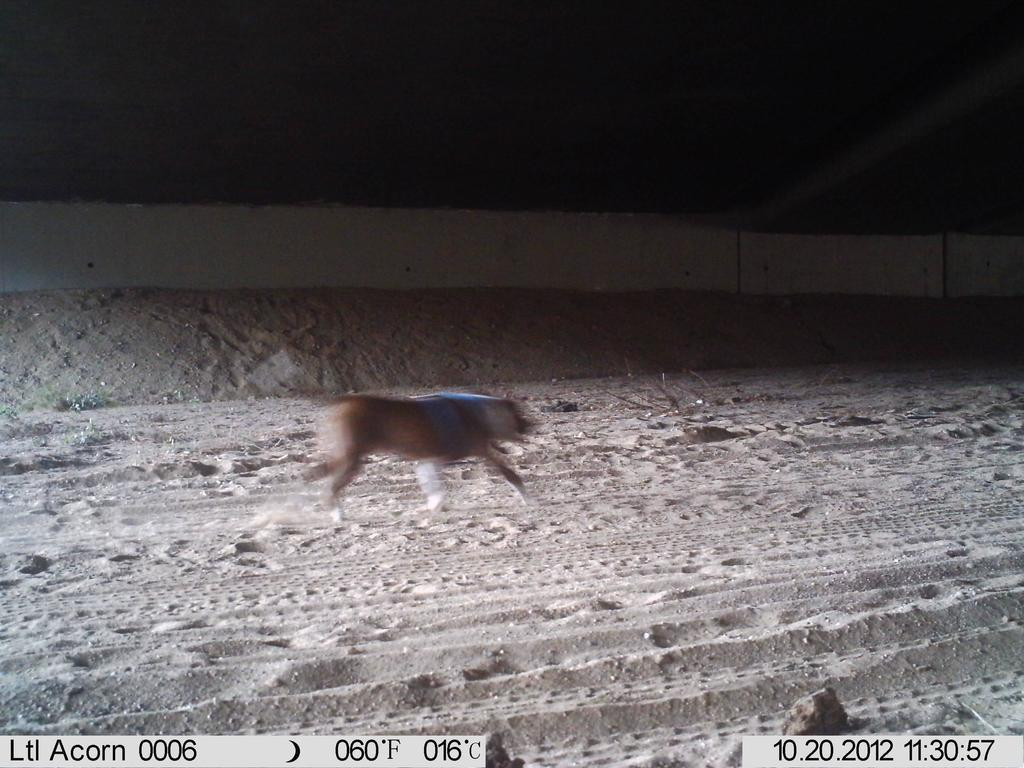dog: (282, 375, 556, 533)
